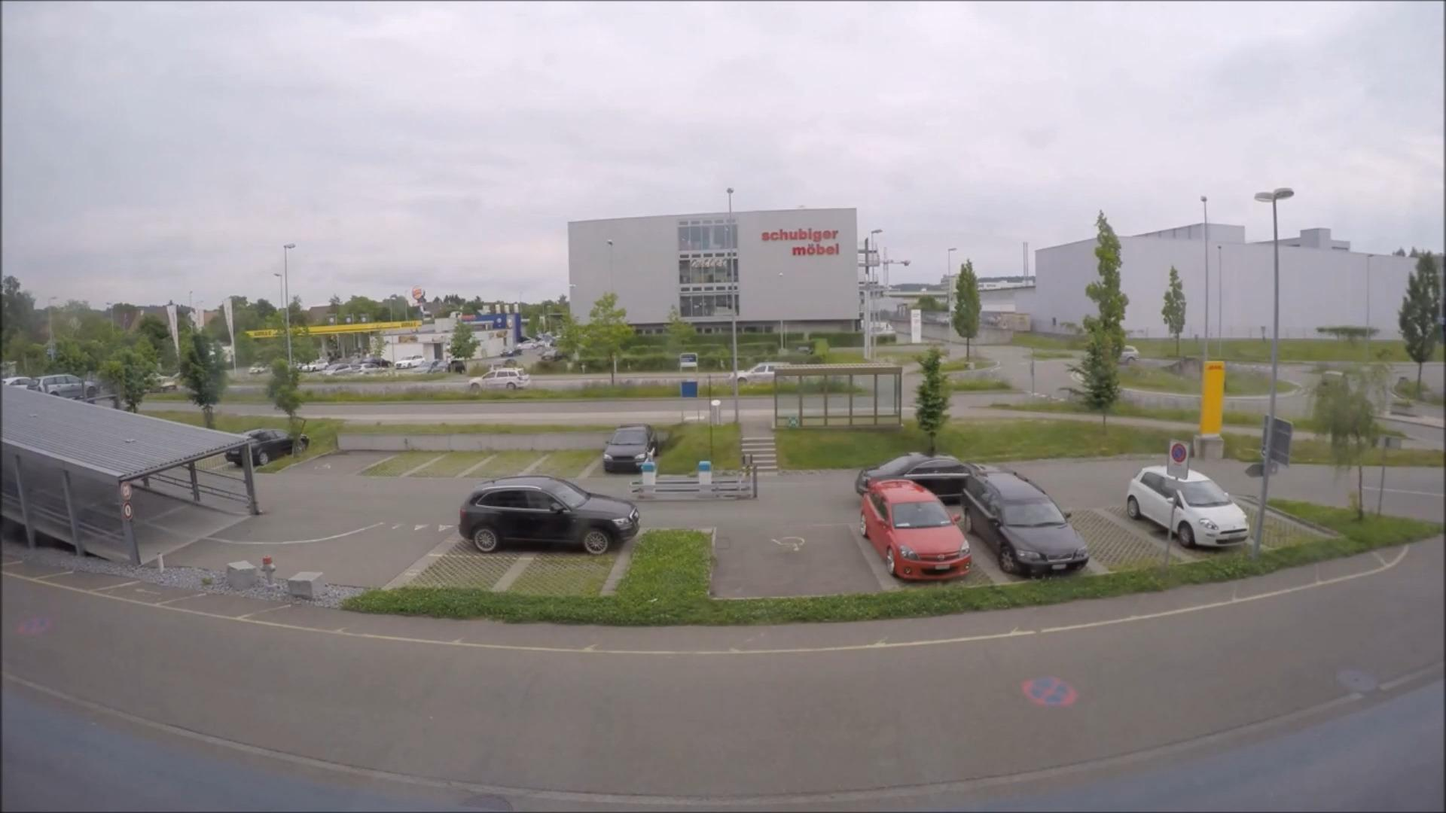occupied: (457, 474, 643, 556), (961, 466, 1092, 576), (1123, 464, 1250, 549), (858, 452, 973, 503), (224, 428, 309, 467), (601, 424, 658, 473)
